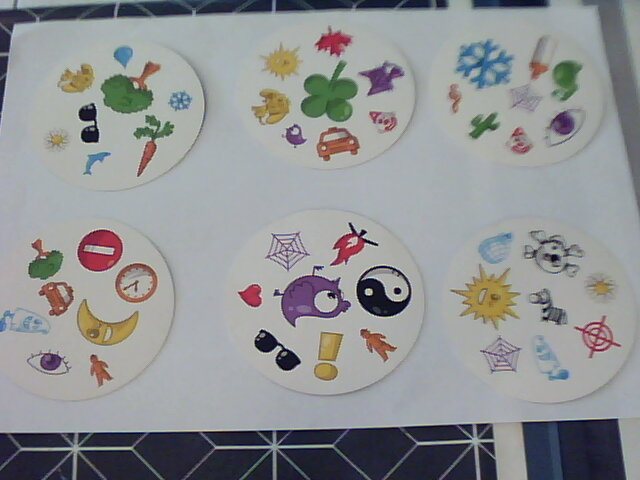arbre: (99, 59, 167, 117), (25, 238, 65, 281)
biberon: (527, 31, 560, 81)
bonhomme: (356, 327, 399, 364), (87, 354, 115, 388)
cactus: (467, 109, 503, 141)
carotte: (130, 113, 178, 178)
chat: (357, 59, 409, 96)
chien: (248, 86, 294, 127), (54, 61, 98, 96)
cible: (574, 311, 622, 360)
clown: (503, 124, 537, 156), (367, 109, 402, 136)
coeur: (236, 282, 266, 310)
dauphin: (80, 149, 116, 177)
fantome: (530, 332, 570, 383), (1, 306, 53, 336)
feu: (329, 220, 380, 269)
feuille: (315, 23, 356, 59)
fleur: (585, 270, 620, 305), (40, 125, 73, 157)
flocon: (455, 37, 517, 91), (167, 90, 194, 112)
goutte: (112, 46, 136, 70)
horloge: (114, 261, 159, 304)
igloo: (476, 230, 519, 268)
lune: (76, 299, 141, 347)
lunette: (254, 327, 303, 377), (76, 99, 102, 146)
note: (445, 81, 464, 117)
oeuil: (540, 106, 590, 150), (24, 348, 74, 378)
oiseau: (274, 263, 352, 328), (282, 124, 310, 150)
point_exclamation: (314, 330, 344, 384)
sens_interdit: (75, 227, 125, 273)
soleil: (450, 264, 524, 332), (256, 38, 306, 82)
tete_mort: (524, 228, 585, 279)
toile: (478, 333, 525, 379), (266, 229, 312, 272), (508, 82, 545, 115)
tortue: (551, 57, 588, 102)
trefle: (299, 59, 361, 124)
voiture: (315, 124, 364, 163), (38, 280, 75, 319)
ying_yang: (355, 264, 413, 319)
zebre: (525, 286, 572, 327)
